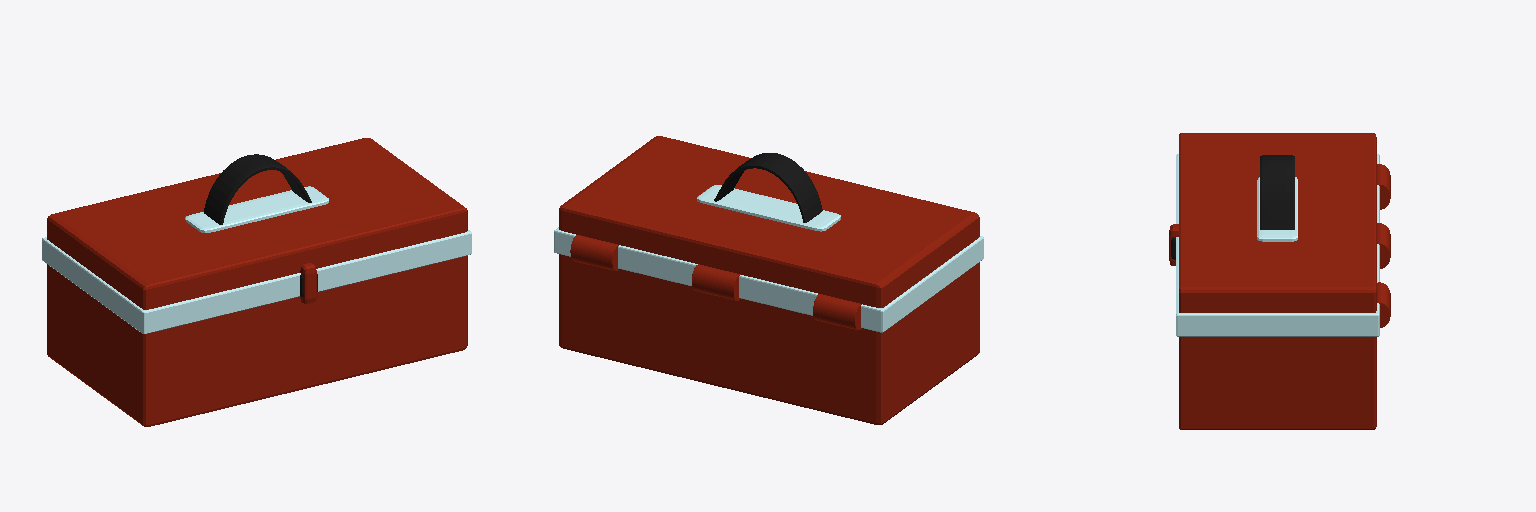
Rendered from ToolBox.obj.
3 renders of one model, left to right at view 1: azimuth 30°, elevation 25°; view 2: azimuth 150°, elevation 25°; view 3: azimuth 270°, elevation 25°, orthographic.
Parts seen in each view (by area): view 1: pasted__polySurface8; view 2: pasted__polySurface8; view 3: pasted__polySurface8.
Part boxes in pixels (x1,y1,x2,y2): pasted__polySurface8: (42,138,471,426); pasted__polySurface8: (554,136,983,424); pasted__polySurface8: (1169,133,1390,429).
Size of the model in its own units: 2.73 by 1.53 by 1.59.